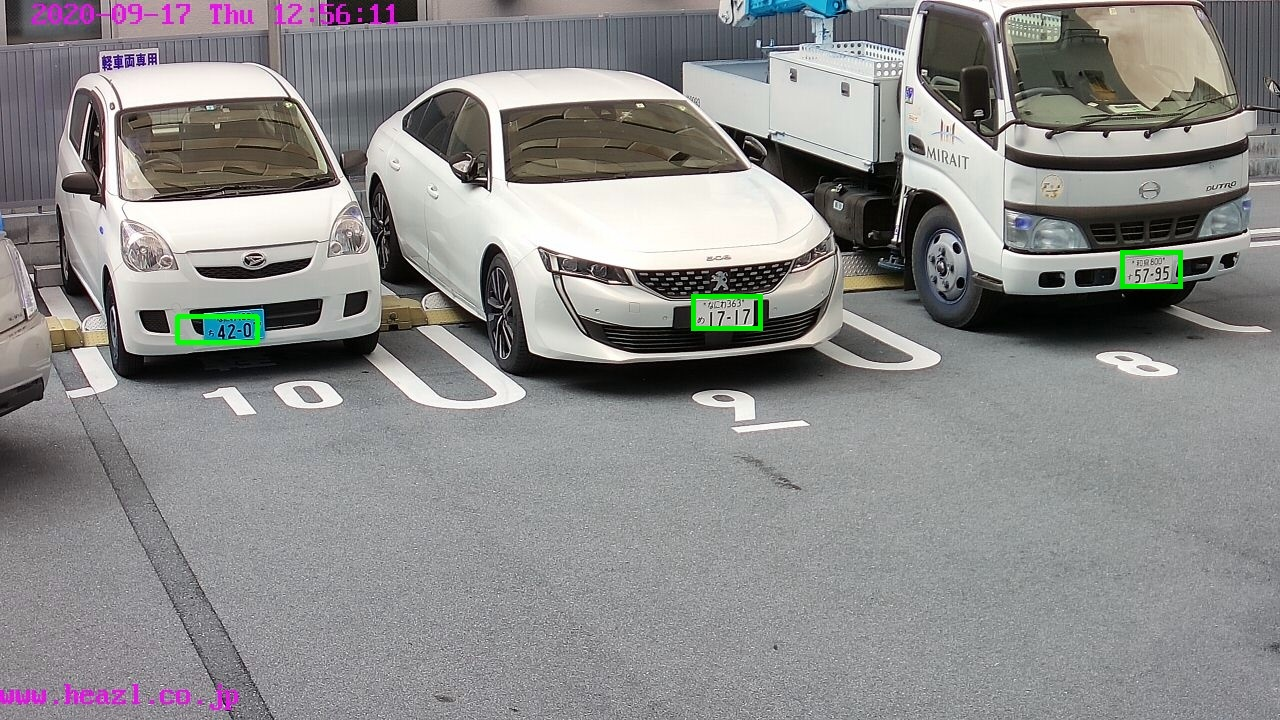number_plate: (200, 309, 266, 338), (696, 297, 753, 329), (1127, 253, 1176, 286)
